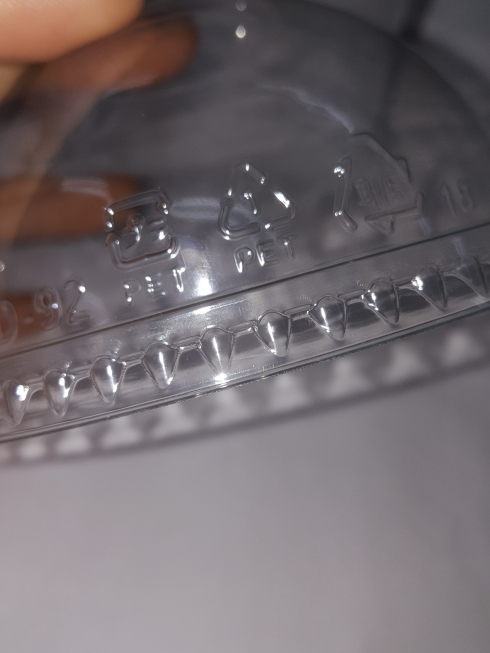recycle: (206, 145, 309, 273)
